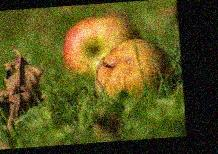rotten apple: (91, 40, 172, 93)
